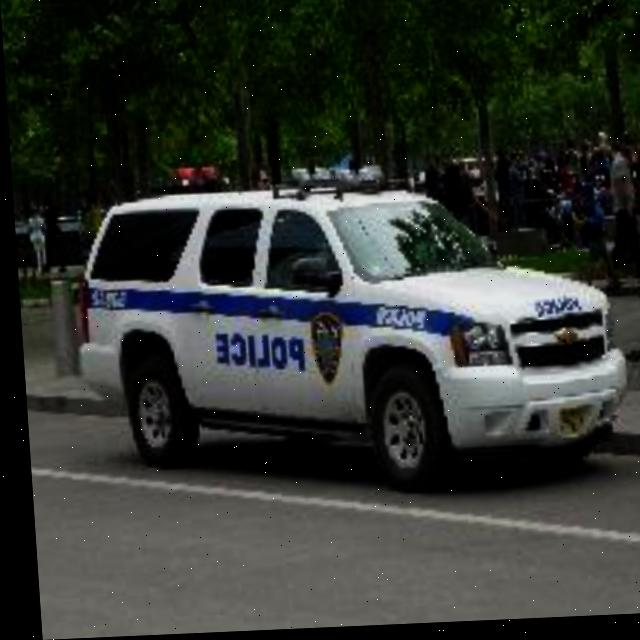emergency: (71, 149, 629, 476)
